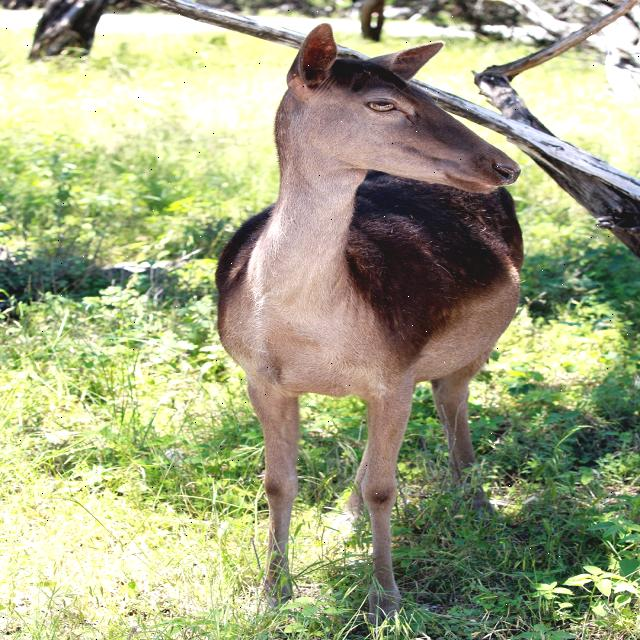deer: (192, 14, 528, 615)
